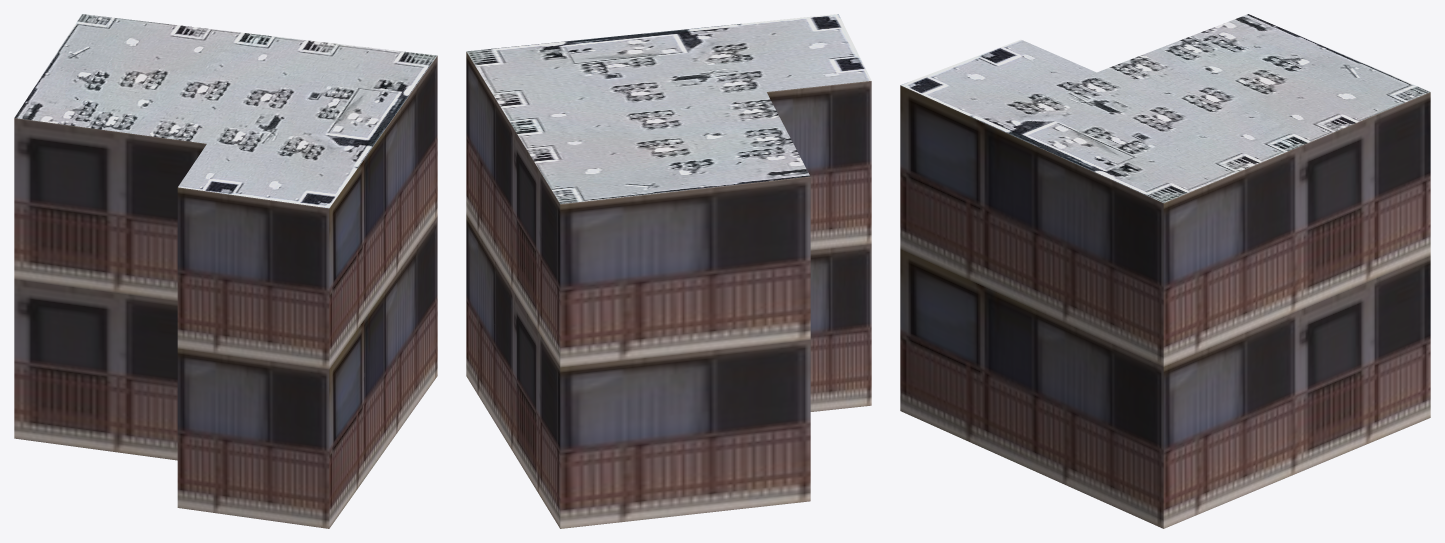
File: ResTex__3112.fbx
The picture shows the model from 3 angles, left to right: view 1: azimuth 30°, elevation 25°; view 2: azimuth 150°, elevation 25°; view 3: azimuth 270°, elevation 25°; orthographic projection.
Parts seen in each view (by area): view 1: CityEngineMaterial_6_m, CityEngineMaterial_8_m; view 2: CityEngineMaterial_6_m, CityEngineMaterial_8_m; view 3: CityEngineMaterial_6_m, CityEngineMaterial_8_m.
Part boxes in pixels (bbox=[...]): CityEngineMaterial_6_m: bbox=[14, 56, 437, 528]; CityEngineMaterial_8_m: bbox=[14, 14, 437, 208]; CityEngineMaterial_6_m: bbox=[466, 52, 871, 528]; CityEngineMaterial_8_m: bbox=[466, 14, 871, 203]; CityEngineMaterial_6_m: bbox=[900, 85, 1430, 528]; CityEngineMaterial_8_m: bbox=[900, 14, 1429, 202].
Bounding box in the file's own units: 7.47 × 6 × 8.85.
2 materials, 2 textured.
